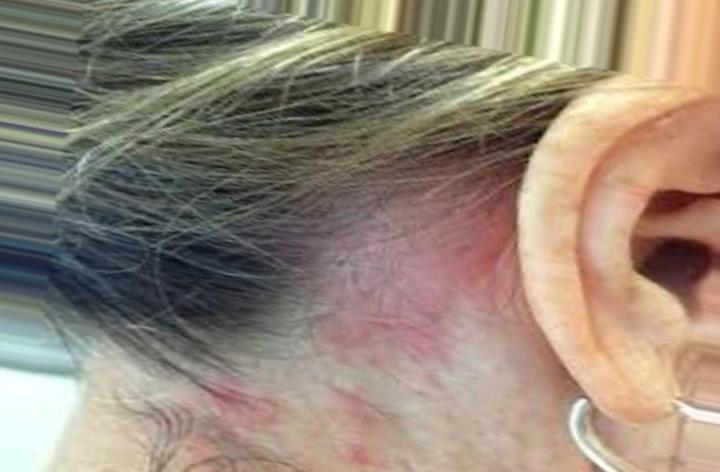Contact Dermatitis: (279, 141, 523, 433)
